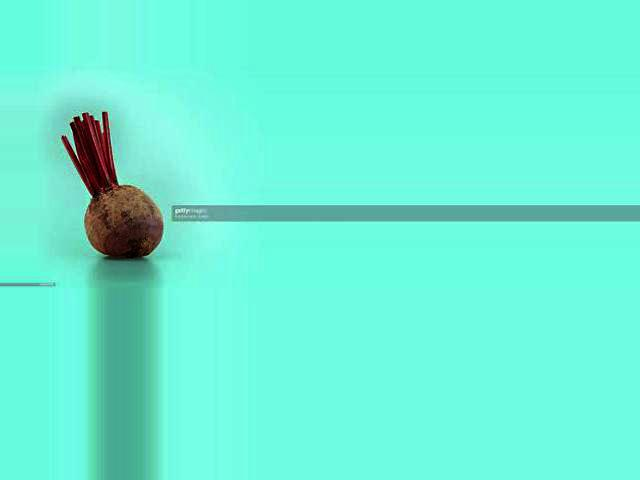beet: (62, 111, 163, 258)
